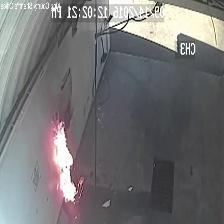fire: (51, 120, 80, 202)
